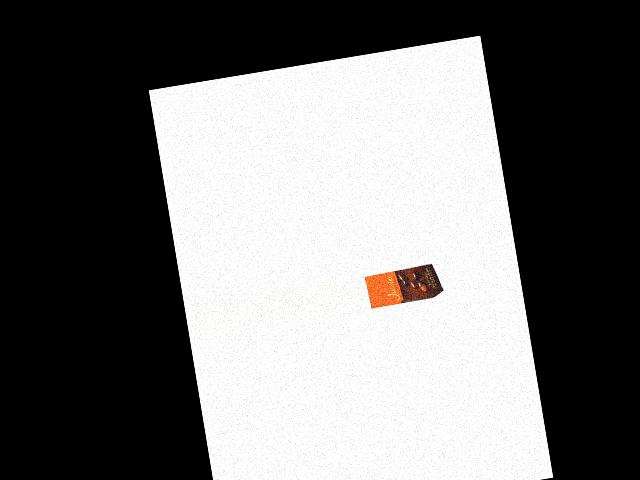chocolate: (364, 258, 444, 310)
